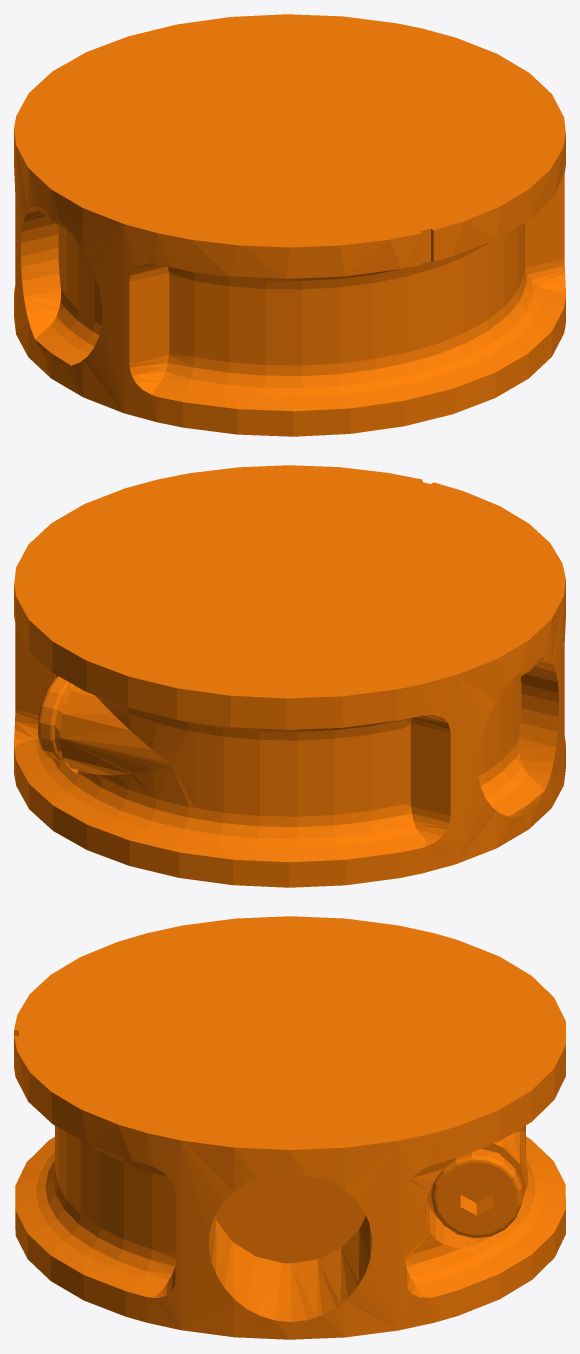
3 views of the same model, one above another, from view 1: azimuth 30°, elevation 25°; view 2: azimuth 150°, elevation 25°; view 3: azimuth 270°, elevation 25° (orthographic).
Parts seen in each view (by area): view 1: <STL_BINARY>.004; view 2: <STL_BINARY>.004; view 3: <STL_BINARY>.004.
Boxes of the visible parts, x1,y1,x2,y2 form: <STL_BINARY>.004: (14, 14, 565, 436); <STL_BINARY>.004: (14, 465, 565, 887); <STL_BINARY>.004: (14, 916, 565, 1339).
Bounding box in the file's own units: 0.3331 × 0.126 × 0.3323.
